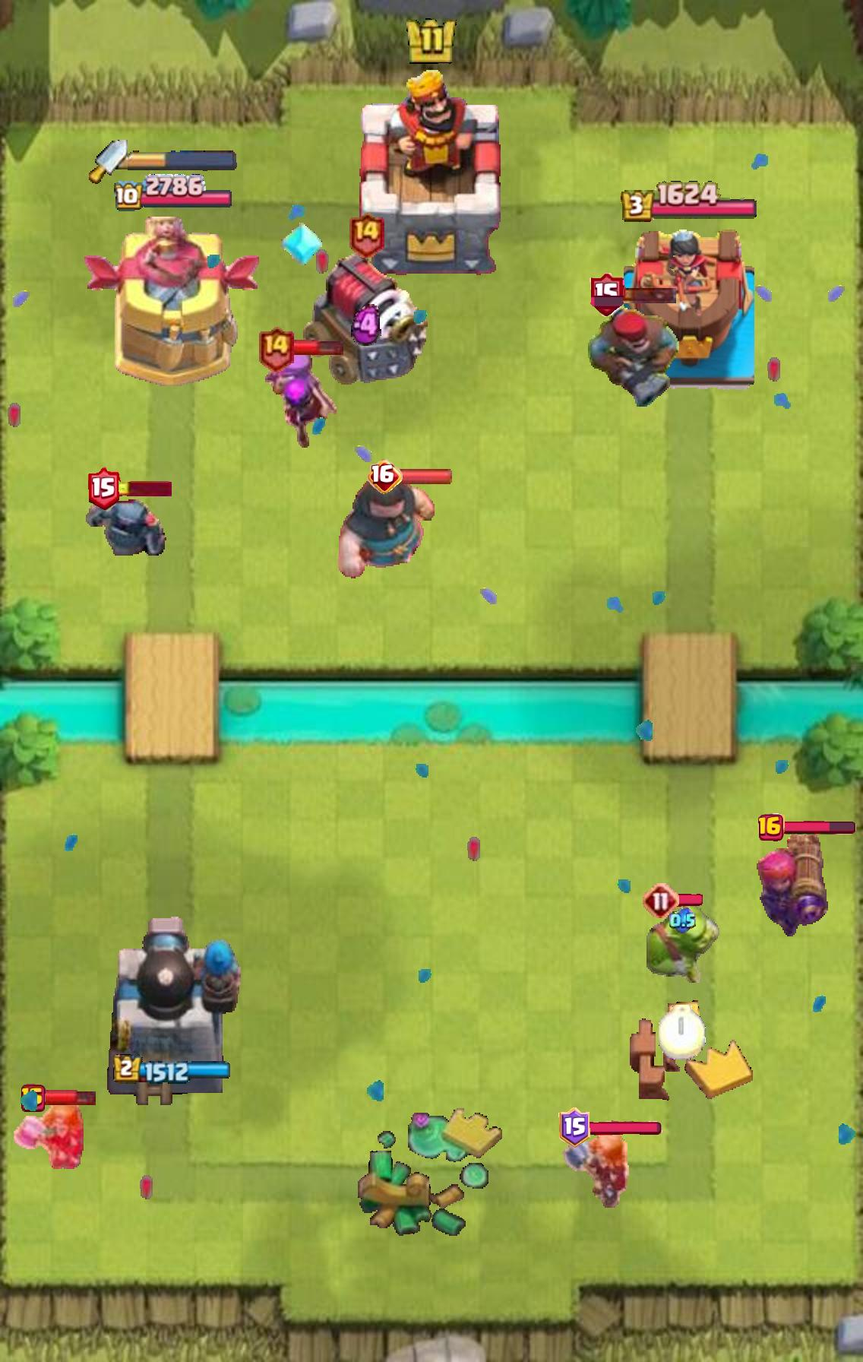bar: (586, 1120, 662, 1136), (781, 821, 857, 835), (42, 1088, 96, 1107), (621, 286, 677, 304), (291, 339, 344, 357), (398, 468, 453, 485), (117, 481, 172, 496), (675, 893, 703, 906)
bar-level: (347, 211, 385, 258), (257, 325, 295, 372), (590, 273, 624, 317), (89, 467, 121, 512), (643, 882, 679, 919), (558, 1108, 590, 1148), (367, 459, 402, 494), (759, 813, 785, 841), (21, 1083, 46, 1112)
